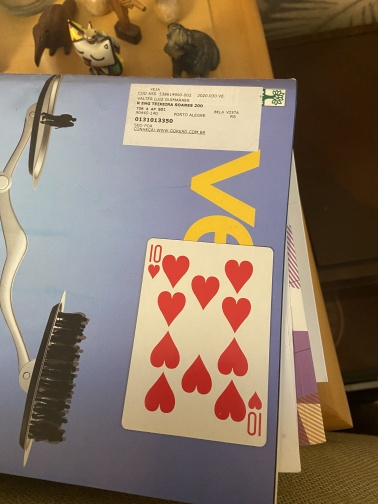ten: (119, 236, 275, 449)
